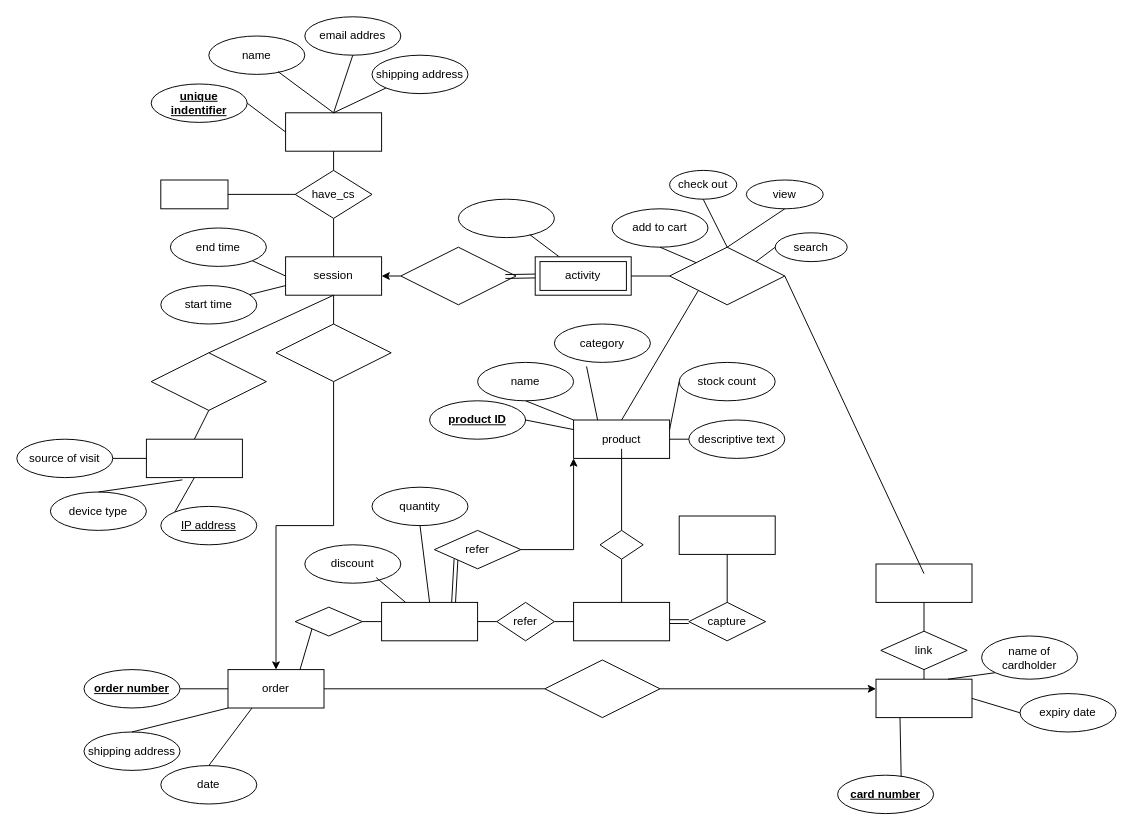
The diagram is 1133 pixels wide and 830 high, and some of its shapes have lost their labels. Each missing label, with the box of its shape:
associate: (150, 352, 266, 410)
belong to: (400, 246, 516, 305)
contain: (294, 606, 362, 636)
credit card: (875, 678, 972, 718)
customer: (285, 112, 382, 151)
device: (145, 438, 242, 478)
have: (599, 529, 643, 559)
item: (381, 601, 478, 641)
linl_so: (275, 323, 391, 382)
pay: (544, 659, 660, 718)
payment: (875, 563, 972, 602)
price: (573, 601, 670, 641)
process: (669, 246, 785, 305)
store: (160, 179, 228, 209)
time: (678, 515, 775, 554)
timeplate: (457, 198, 554, 238)
